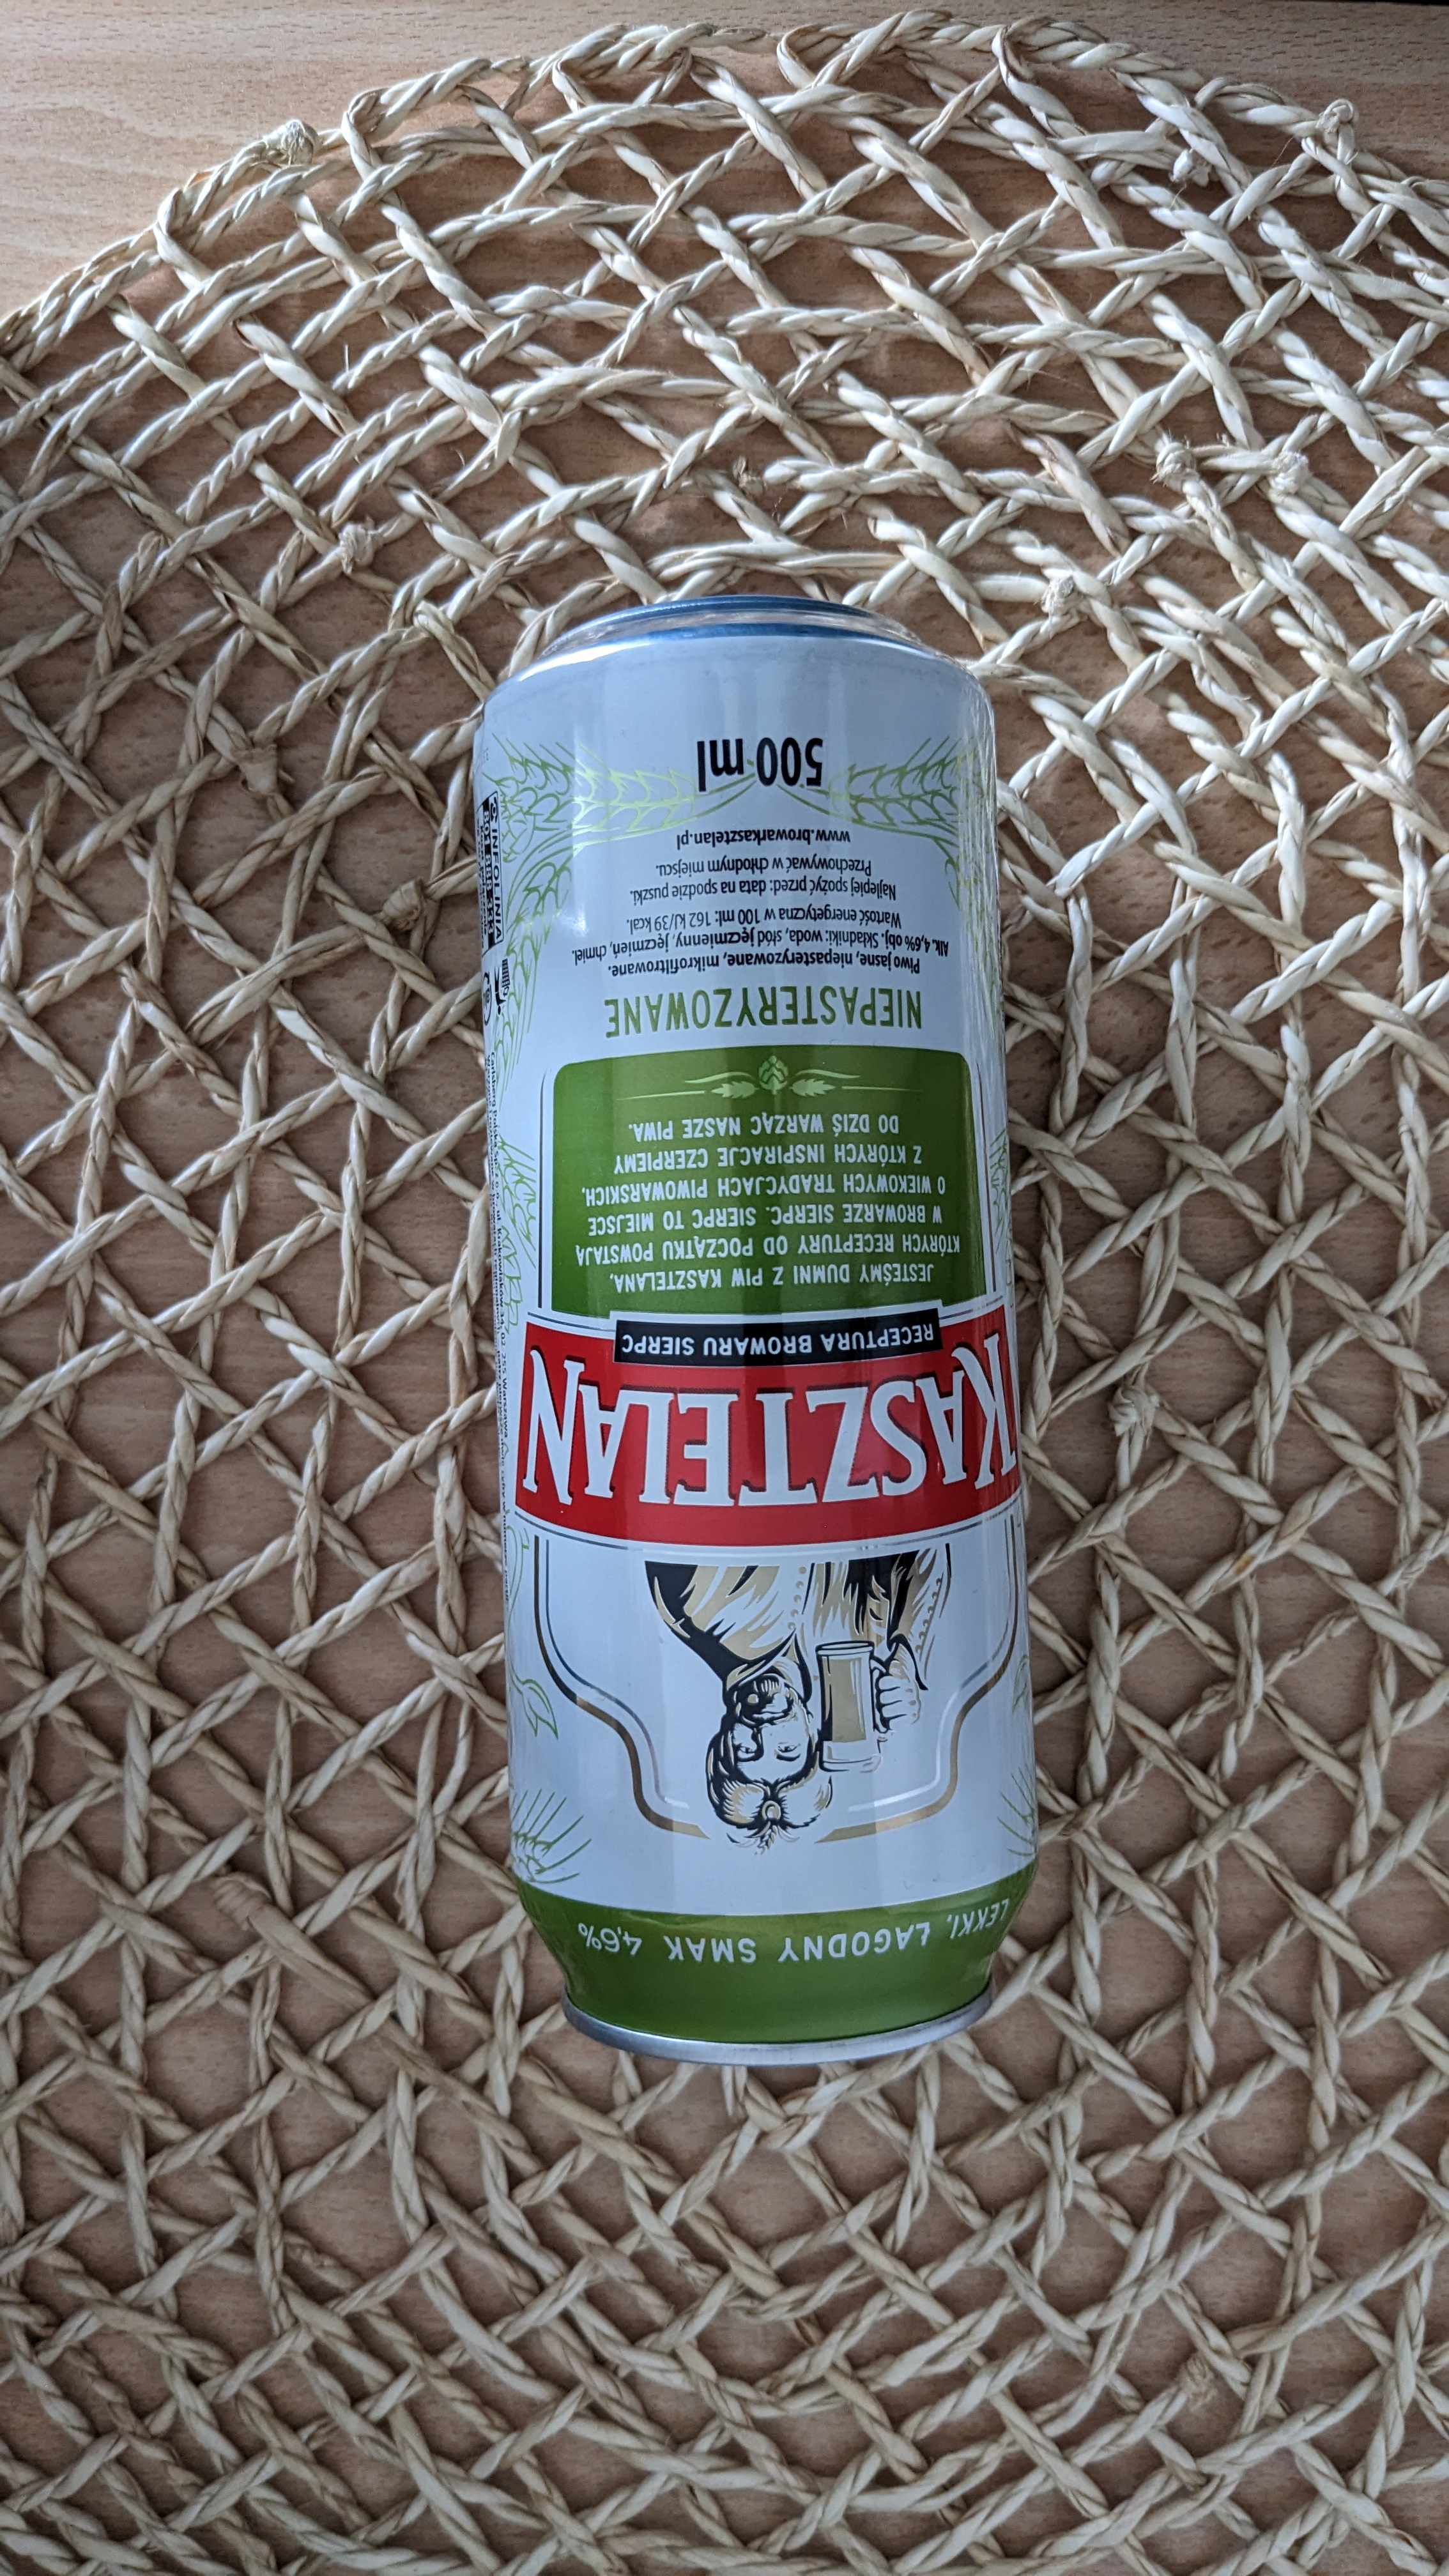kasztelan: (464, 573, 1074, 2074)
